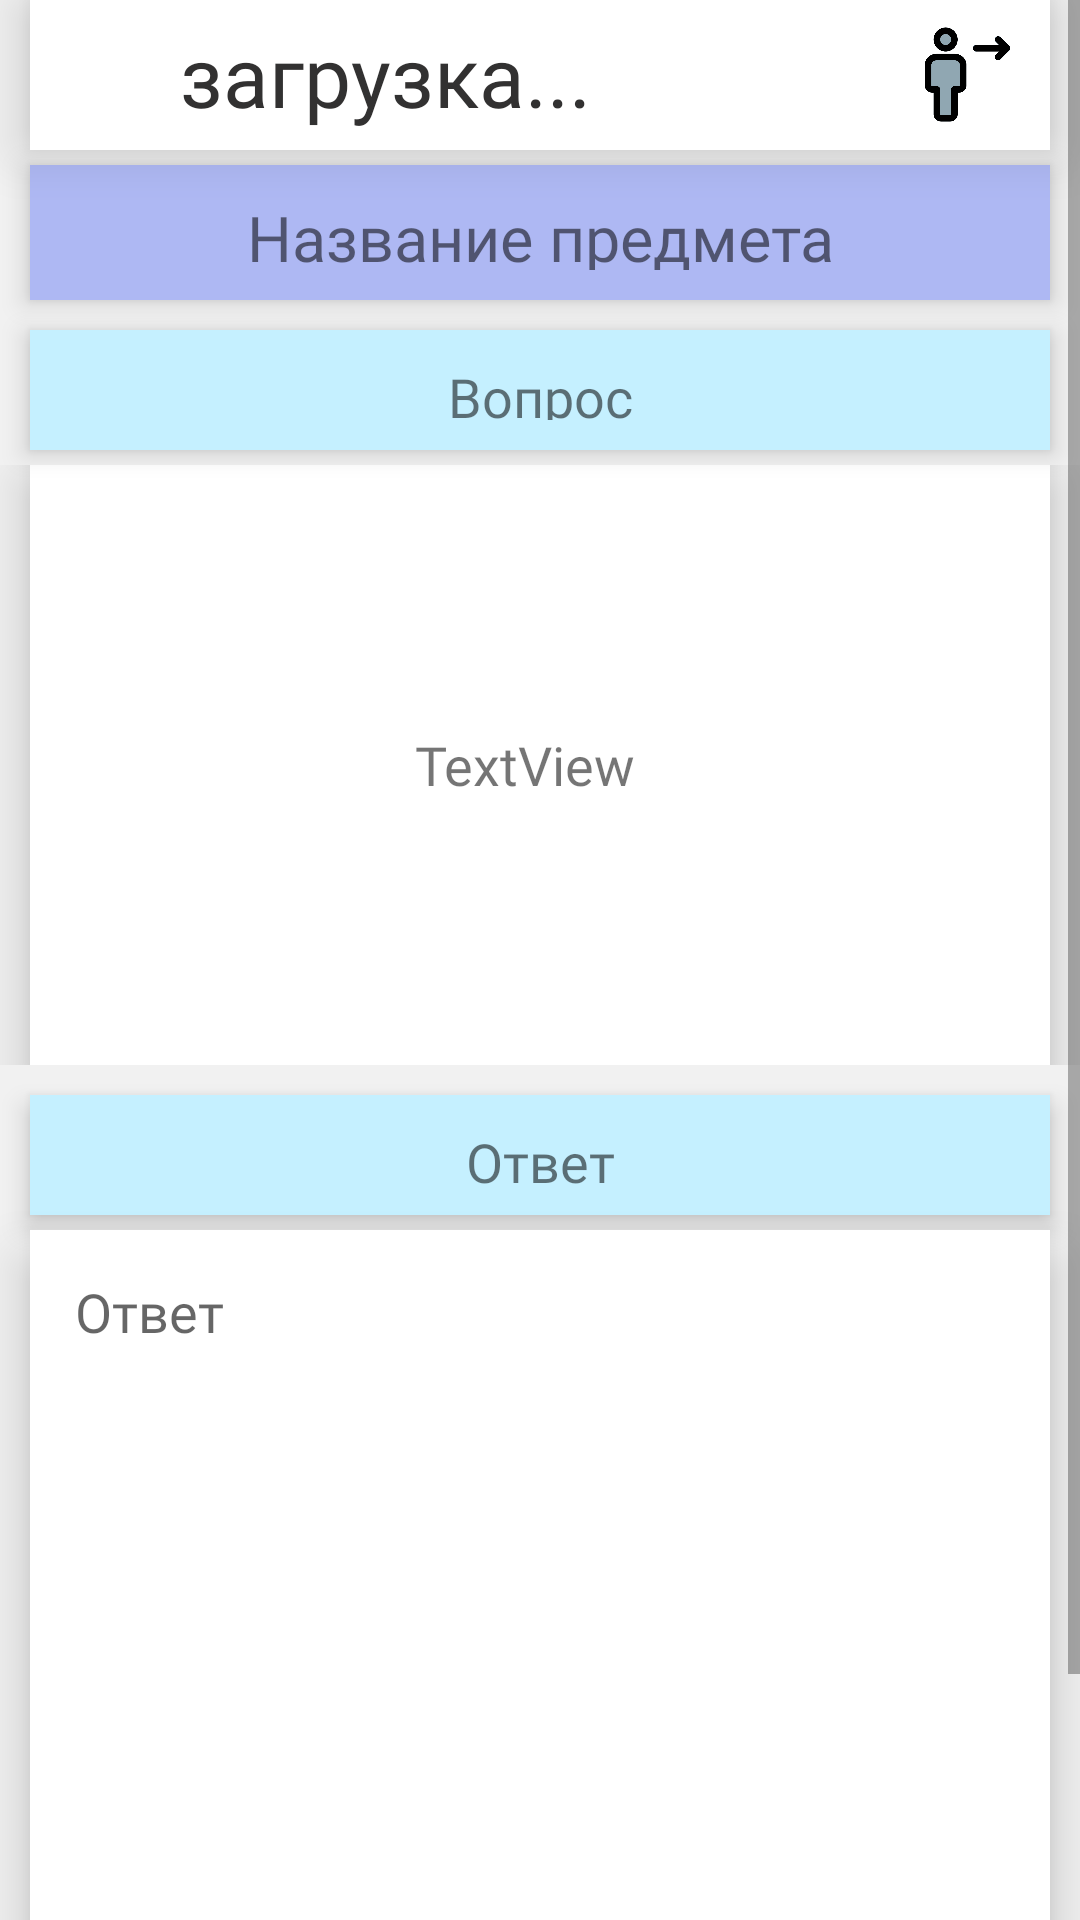

Point at icon controls on the screen. Image size 1080×1920, points as point (x, y).
exit: point (967, 74)
